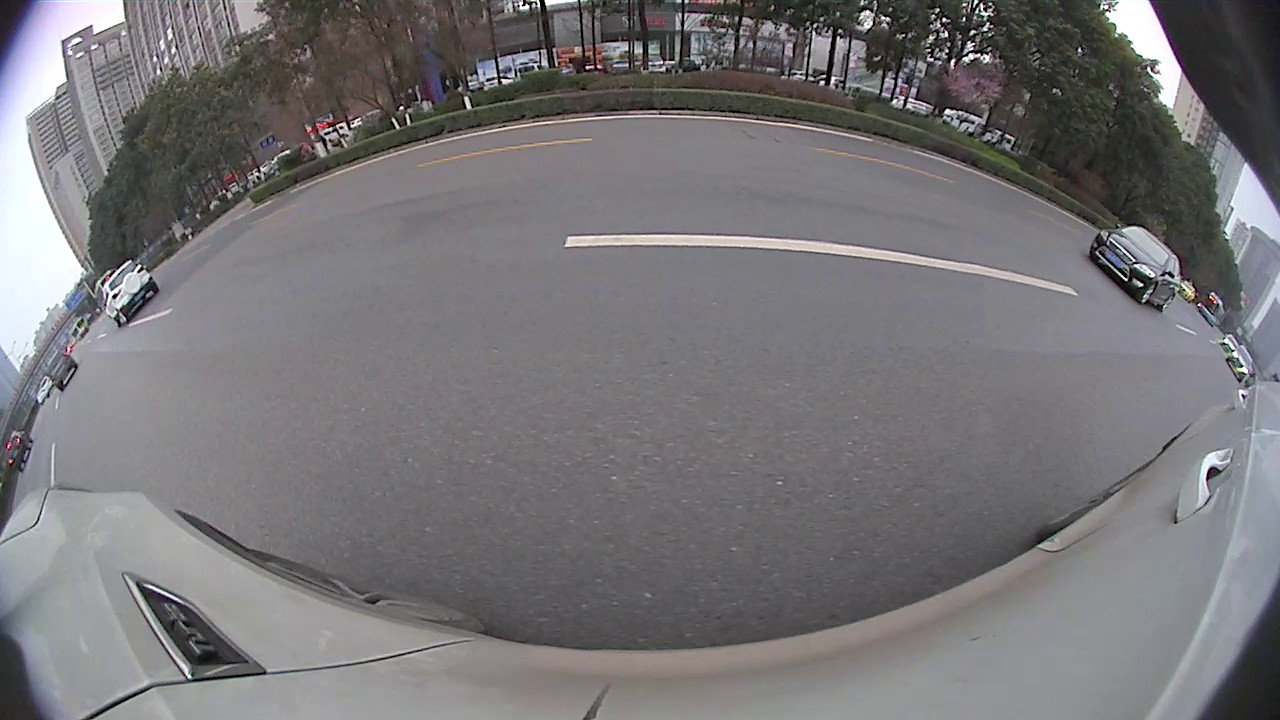bus: (711, 86, 908, 218), (896, 136, 983, 221)
car: (1050, 257, 1279, 454), (994, 171, 1240, 294), (603, 156, 661, 200), (533, 159, 587, 197)
front: (1078, 305, 1169, 407), (994, 228, 1023, 267)
rear: (750, 177, 772, 215)
